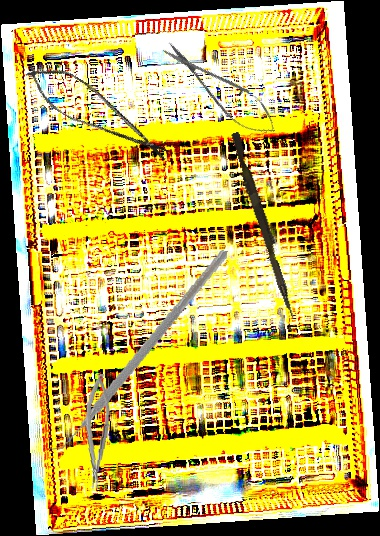Chopper: (41, 229, 228, 470)
Micro Scissor: (17, 53, 179, 172), (155, 33, 285, 145)
Needle Holder: (79, 373, 114, 490)
Pusher: (226, 131, 302, 320)
